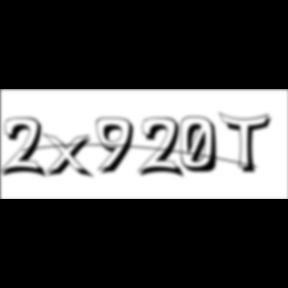0: (180, 115, 226, 174)
2: (0, 117, 50, 181), (138, 117, 188, 181)
9: (96, 117, 142, 177)
T: (219, 112, 277, 176)
x: (42, 132, 97, 181)
